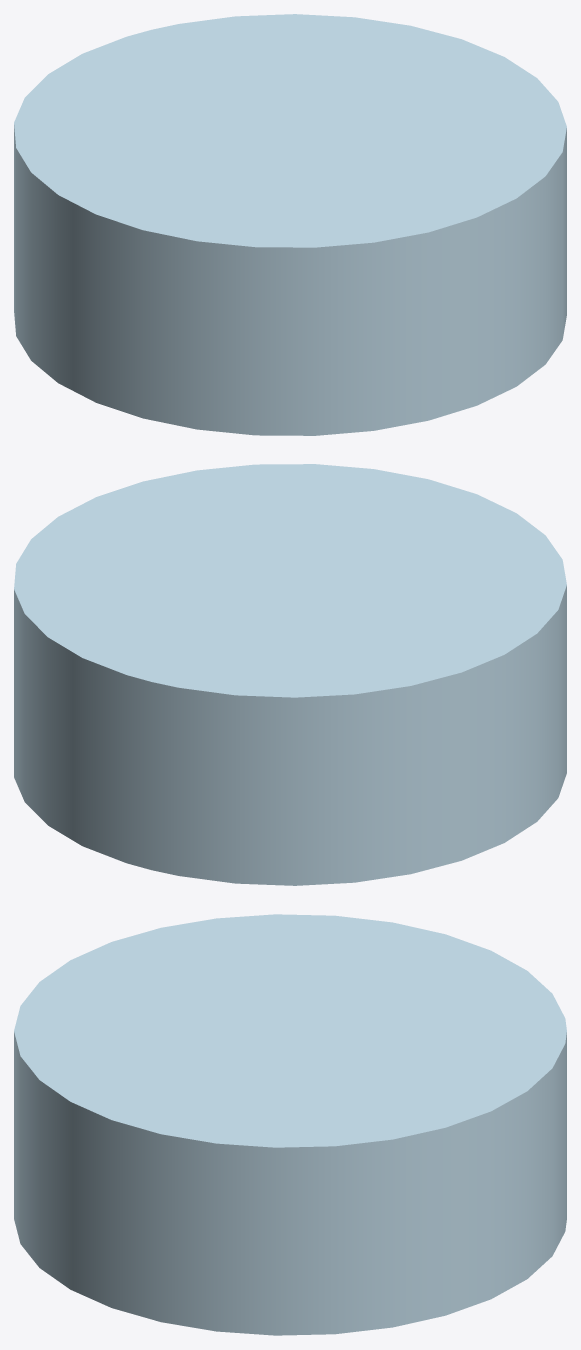
The model's file is OdoWheel.gltf.
The picture shows the model from 3 angles, top to bottom: view 1: azimuth 30°, elevation 25°; view 2: azimuth 150°, elevation 25°; view 3: azimuth 270°, elevation 25°; orthographic projection.
Visible parts, largest first — view 1: mesh1, mesh2; view 2: mesh1, mesh2; view 3: mesh1, mesh2.
Boxes of the visible parts, x1,y1,x2,y2 form: mesh1: (14,125,566,435); mesh2: (14,14,566,247); mesh1: (14,585,566,885); mesh2: (14,464,566,697); mesh1: (14,1032,566,1335); mesh2: (14,914,566,1147).
Bounding box in the file's own units: 0.0479 × 0.018 × 0.048.
